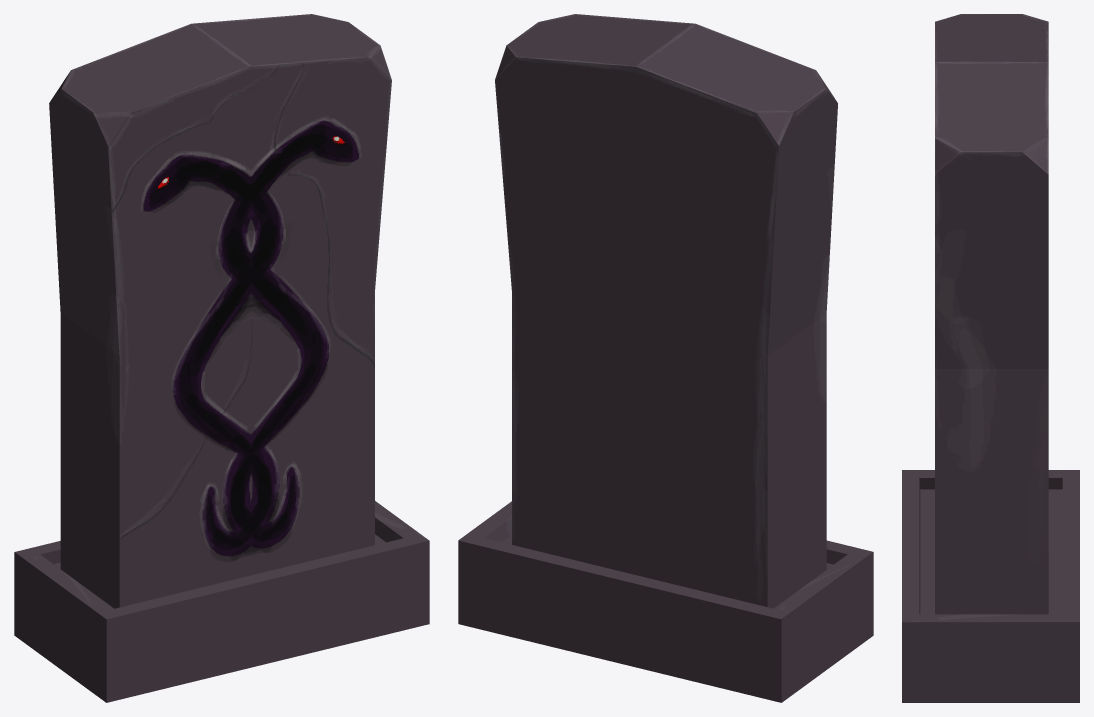
File: Anti Sticker Totem.glb
3 renders of one model, left to right at view 1: azimuth 30°, elevation 25°; view 2: azimuth 150°, elevation 25°; view 3: azimuth 270°, elevation 25°, orthographic. The views are drawn at different scales.
Parts seen in each view (by area): view 1: Cube.018; view 2: Cube.018; view 3: Cube.018.
Boxes of the visible parts, x1,y1,x2,y2 form: Cube.018: [14, 14, 429, 702]; Cube.018: [458, 14, 873, 702]; Cube.018: [902, 14, 1079, 702].
Size of the model in its own units: 0.81 by 1.4 by 0.4.
Materials: 1 (1 with a texture image).
